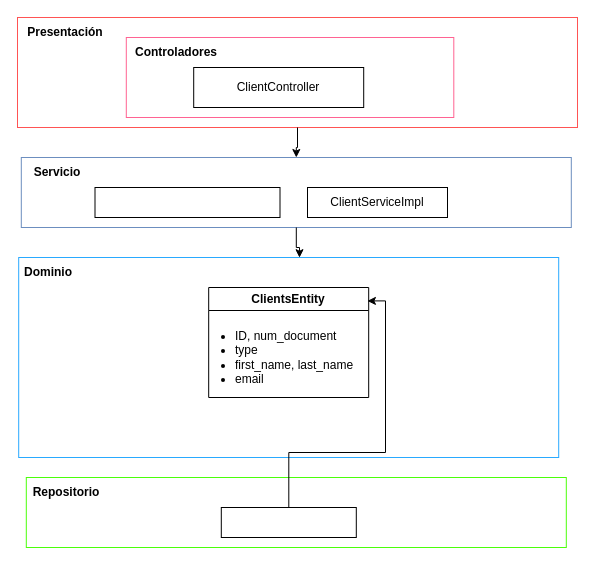
The diagram is 595 pixels wide and 565 high, and some of its shapes have lost their labels. The centre of each missing label's shape, as x and y in pixels:
ClientRepository: the point at 288,522
ClientService: the point at 187,202
